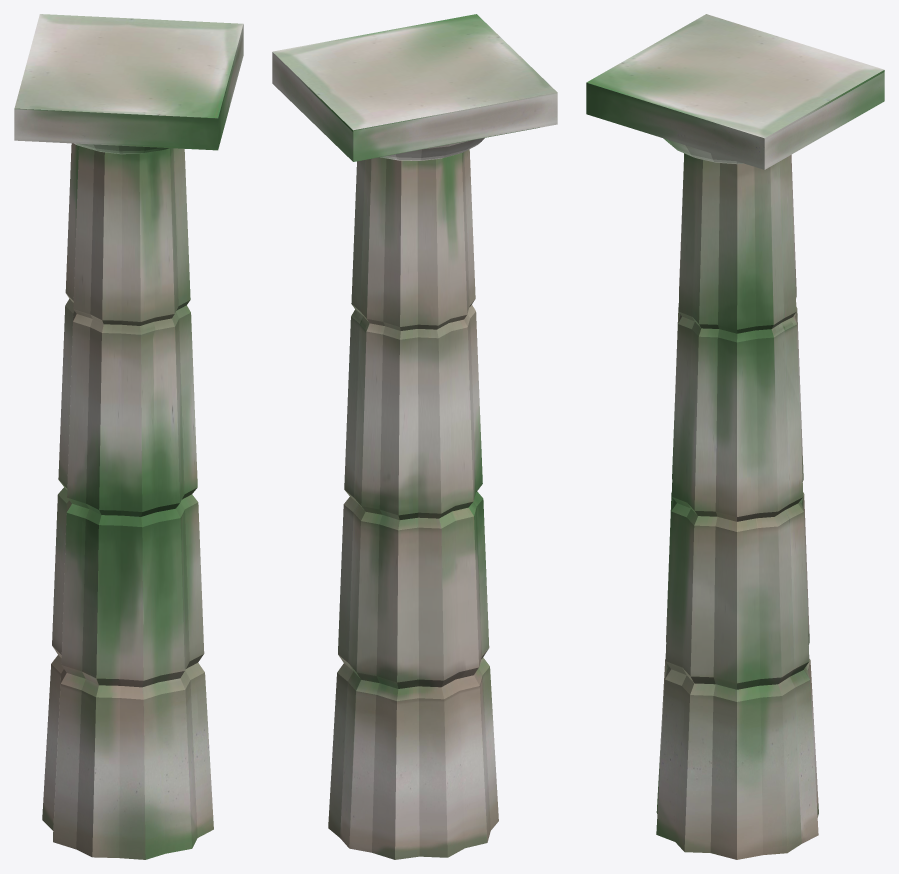
The model's file is 青苔柱子.fbx.
3 views of the same model, side by side, from view 1: azimuth 30°, elevation 25°; view 2: azimuth 150°, elevation 25°; view 3: azimuth 270°, elevation 25° (orthographic).
Parts seen in each view (by area): view 1: 青苔柱子.001; view 2: 青苔柱子.001; view 3: 青苔柱子.001.
Boxes of the visible parts, box(x1,y1,x2,y2) form: 青苔柱子.001: box(14, 14, 243, 859); 青苔柱子.001: box(272, 14, 557, 859); 青苔柱子.001: box(586, 14, 884, 859).
Bounding box in the file's own units: 294 × 825 × 298.
Materials: 1 (1 with a texture image).
